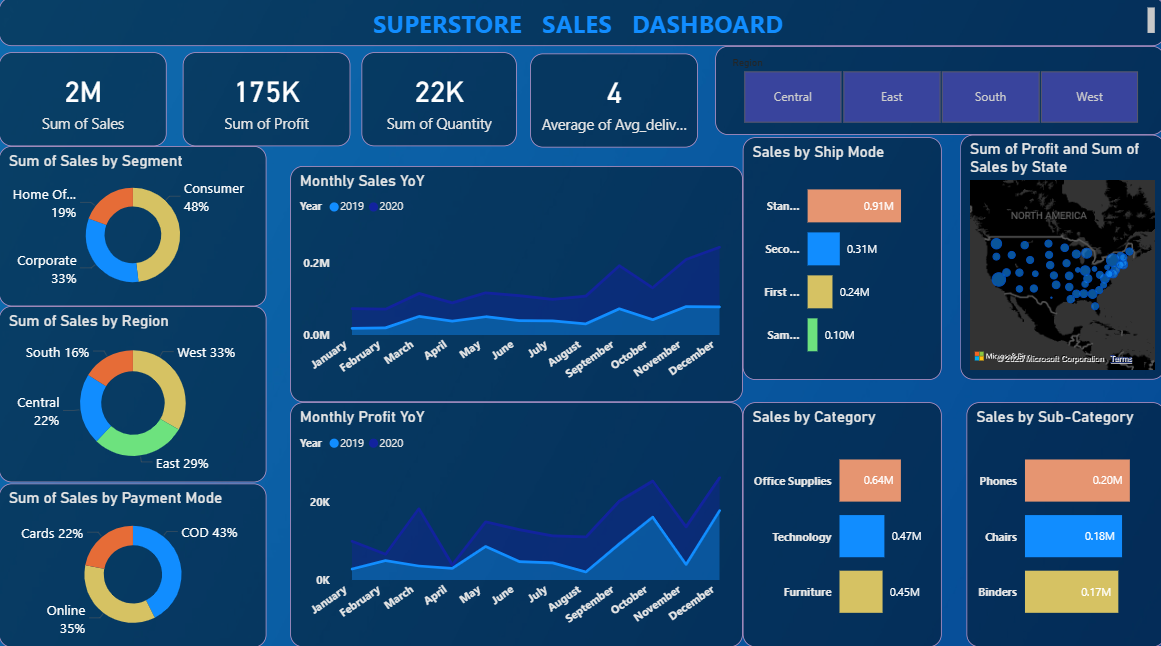

The page's visual inventory and layout, read from the dashboard file:
{"tool":"powerbi","page":{"name":"Page 1","canvas":[1280,720],"ordinal":0},"visuals":[{"type":"clusteredBarChart","title":"Sales by Category","fields":{"Category":["SuperStore_Sales_Dataset.Category"],"Y":["Sum(SuperStore_Sales_Dataset.Sales)"]},"box":[816.5,451.5,218.2,269],"z":0},{"type":"clusteredBarChart","title":"Sales by Sub-Category","fields":{"Category":["SuperStore_Sales_Dataset.Sub-Category"],"Y":["Sum(SuperStore_Sales_Dataset.Sales)"]},"box":[1062.1,451.5,218.2,269],"z":1000},{"type":"clusteredBarChart","title":"Sales by Ship Mode","fields":{"Y":["Sum(SuperStore_Sales_Dataset.Sales)"],"Category":["SuperStore_Sales_Dataset.Ship Mode"]},"box":[816.5,160.5,218.2,266.2],"z":2000},{"type":"stackedAreaChart","title":"Monthly Sales YoY","fields":{"Y":["Sum(SuperStore_Sales_Dataset.Sales)"],"Category":["SuperStore_Sales_Dataset.Order Date.Variation.Date Hierarchy.Month","SuperStore_Sales_Dataset.Order Date.Variation.Date Hierarchy.Day"],"Series":["SuperStore_Sales_Dataset.Order Date.Variation.Date Hierarchy.Year"]},"box":[319.7,192.1,496.7,259.3],"z":3000},{"type":"stackedAreaChart","title":"Monthly Profit YoY","fields":{"Category":["SuperStore_Sales_Dataset.Order Date.Variation.Date Hierarchy.Month","SuperStore_Sales_Dataset.Order Date.Variation.Date Hierarchy.Day"],"Series":["SuperStore_Sales_Dataset.Order Date.Variation.Date Hierarchy.Year"],"Y":["Sum(SuperStore_Sales_Dataset.Profit)"]},"box":[319.7,451.5,496.7,269],"z":3001},{"type":"map","fields":{"Size":["Sum(SuperStore_Sales_Dataset.Profit)"],"Category":["SuperStore_Sales_Dataset.State"]},"box":[1055.2,157.8,225,269],"z":3002},{"type":"donutChart","fields":{"Category":["SuperStore_Sales_Dataset.Segment"],"Y":["Sum(SuperStore_Sales_Dataset.Sales)"]},"box":[0,170.2,293.7,175.6],"z":3003},{"type":"donutChart","fields":{"Y":["Sum(SuperStore_Sales_Dataset.Sales)"],"Category":["SuperStore_Sales_Dataset.Region"]},"box":[0,345.8,293.7,193.5],"z":3004},{"type":"donutChart","fields":{"Y":["Sum(SuperStore_Sales_Dataset.Sales)"],"Category":["SuperStore_Sales_Dataset.Payment Mode"]},"box":[0,540.7,293.7,179.8],"z":3005},{"type":"slicer","fields":{"Values":["SuperStore_Sales_Dataset.Region"]},"box":[786.3,60.4,494,97.4],"z":3006},{"type":"textbox","box":[0,6.9,1280.3,53.5],"z":3007},{"type":"card","fields":{"Values":["Sum(SuperStore_Sales_Dataset.Sales)"]},"box":[0,67.2,183.9,102.9],"z":3008},{"type":"card","fields":{"Values":["Sum(SuperStore_Sales_Dataset.Profit)"]},"box":[201.7,67.2,183.9,102.9],"z":3009},{"type":"card","fields":{"Values":["Sum(SuperStore_Sales_Dataset.Quantity)"]},"box":[397.9,67.2,170.2,102.9],"z":3010},{"type":"card","fields":{"Values":["Avg(SuperStore_Sales_Dataset.Avg_delivery)"]},"box":[583.2,68.6,183.9,102.9],"z":3011}]}

Visuals, with their boxes in screenshot pixels (x1, y1, x2, y2), scaled from the page's 1280x720 canvas onto the 1161x646 screenshot:
"Sales by Category" clusteredBarChart: select_region(741, 405, 939, 645)
"Sales by Sub-Category" clusteredBarChart: select_region(963, 405, 1160, 645)
"Sales by Ship Mode" clusteredBarChart: select_region(741, 144, 939, 383)
"Monthly Sales YoY" stackedAreaChart: select_region(290, 172, 741, 405)
"Monthly Profit YoY" stackedAreaChart: select_region(290, 405, 741, 645)
map - Sum(SuperStore_Sales_Dataset.Profit) x SuperStore_Sales_Dataset.State: select_region(957, 142, 1160, 383)
donutChart - SuperStore_Sales_Dataset.Segment x Sum(SuperStore_Sales_Dataset.Sales): select_region(0, 153, 266, 310)
donutChart - Sum(SuperStore_Sales_Dataset.Sales) x SuperStore_Sales_Dataset.Region: select_region(0, 310, 266, 484)
donutChart - Sum(SuperStore_Sales_Dataset.Sales) x SuperStore_Sales_Dataset.Payment Mode: select_region(0, 485, 266, 645)
slicer - SuperStore_Sales_Dataset.Region: select_region(713, 54, 1160, 142)
textbox: select_region(0, 6, 1160, 54)
card - Sum(SuperStore_Sales_Dataset.Sales): select_region(0, 60, 167, 153)
card - Sum(SuperStore_Sales_Dataset.Profit): select_region(183, 60, 350, 153)
card - Sum(SuperStore_Sales_Dataset.Quantity): select_region(361, 60, 515, 153)
card - Avg(SuperStore_Sales_Dataset.Avg_delivery): select_region(529, 62, 696, 154)
